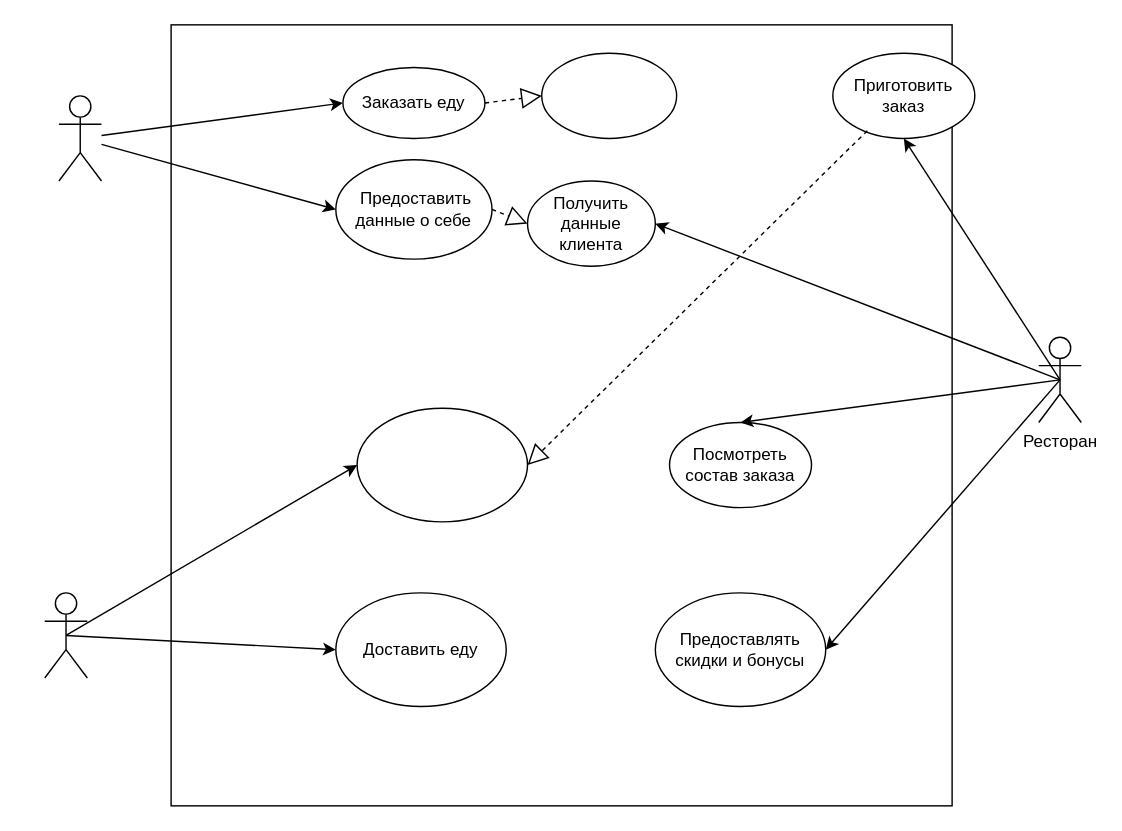
Some shapes in this 1122 by 831 pixel diagram are drawn without their labels. Each missing label, with the centre of its shape:
"Курьер" goes at [65,634].
"Оплатить заказ" goes at [608,95].
"Получить заказ из ресторана" goes at [442,464].
"Пользователь" goes at [80,137].
